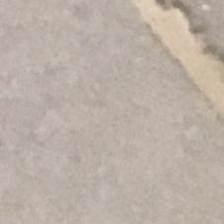Non_Crack: (5, 3, 141, 196)
